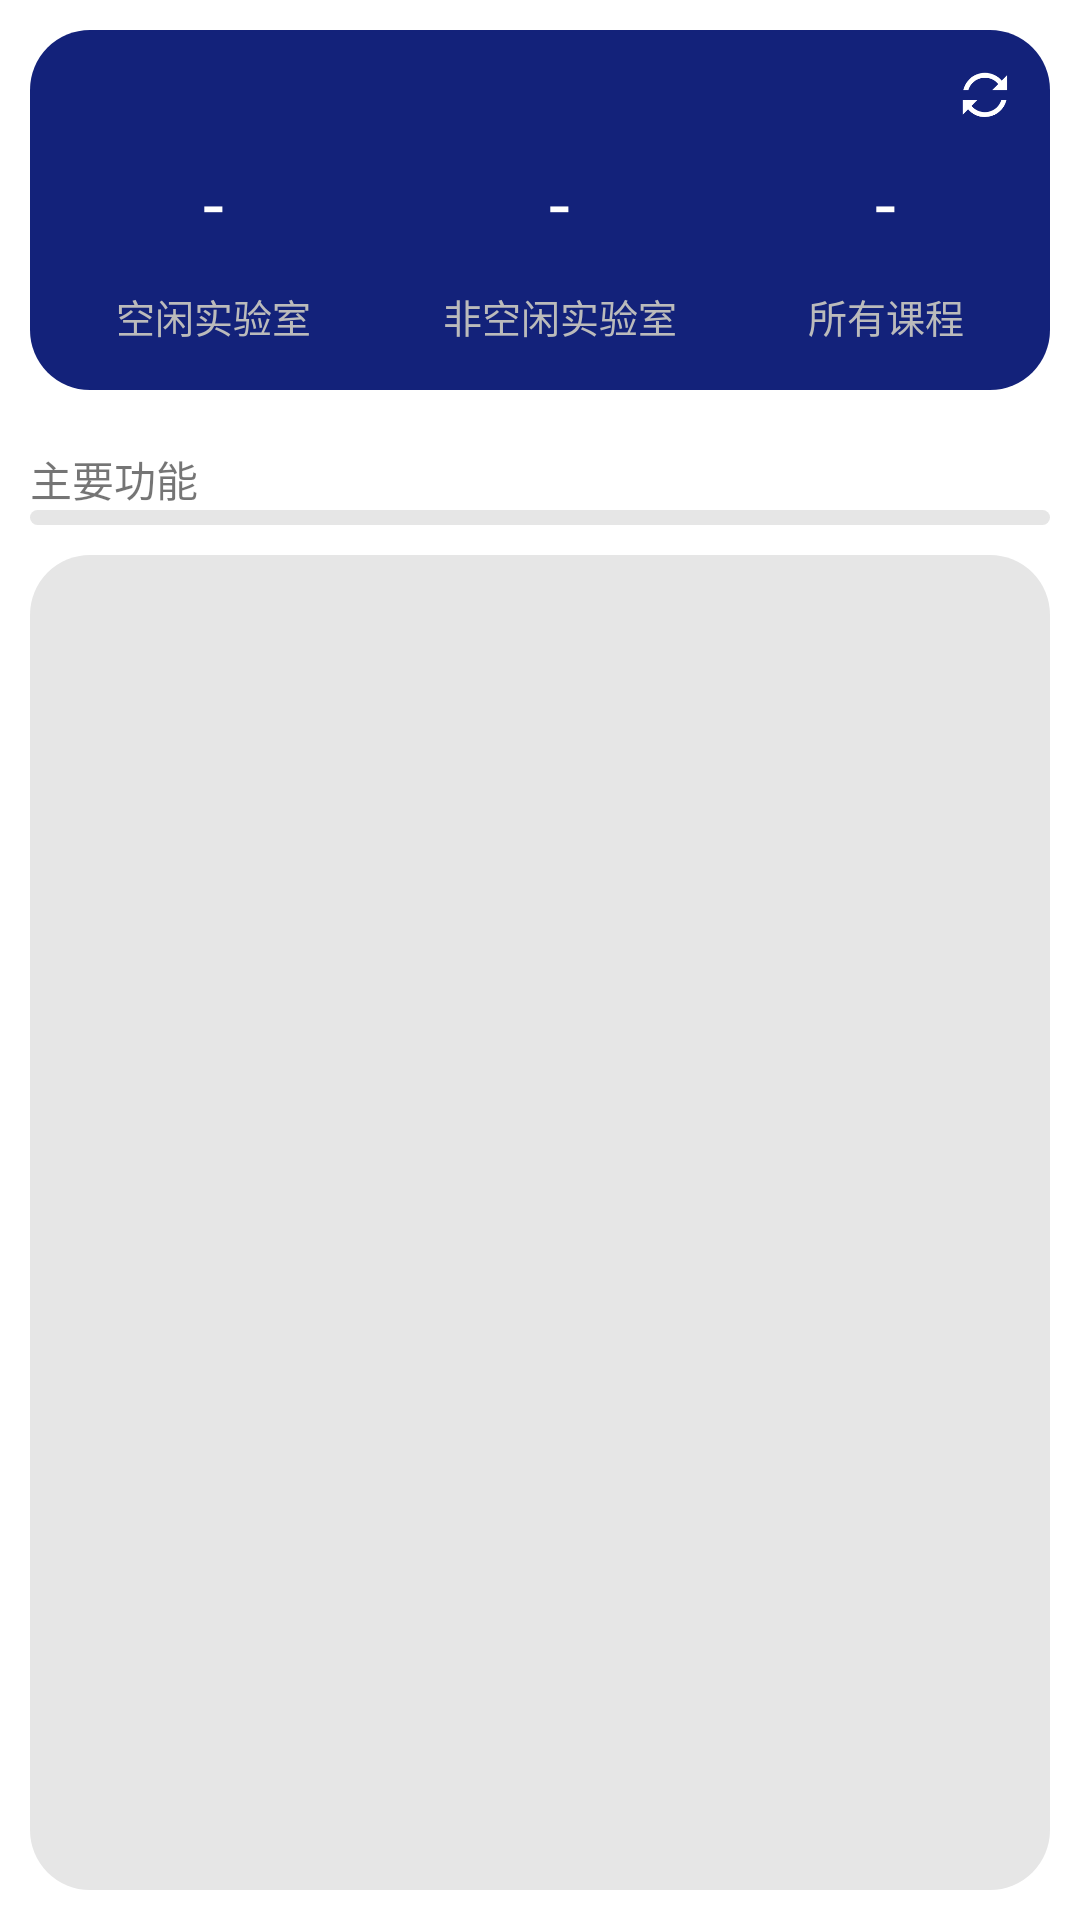

Where to tap for icons on this 1080*1920 app screen, as (x=x, y=y):
shuaxin: (x=984, y=94)
